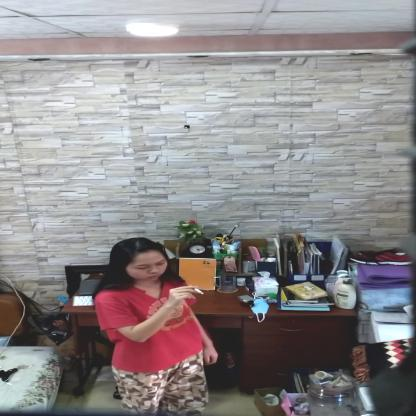cigarette: (194, 288, 204, 296)
person: (94, 236, 223, 415)
